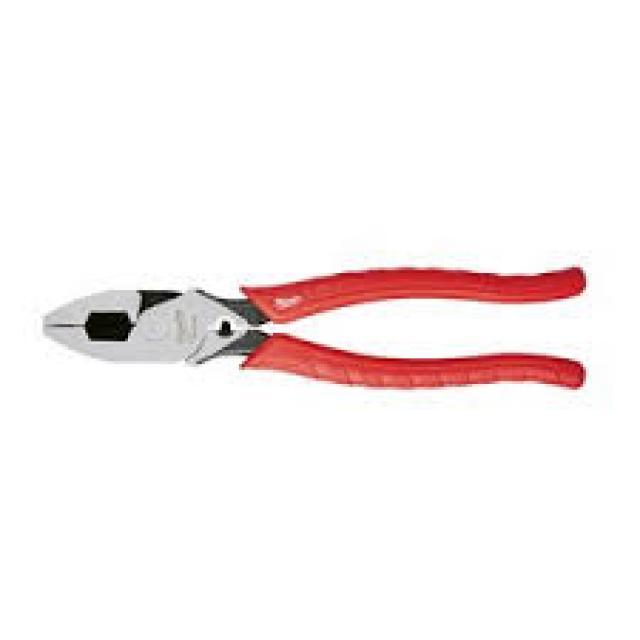pliers: (24, 252, 611, 410)
